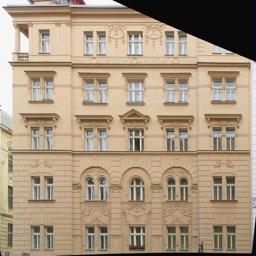building: (10, 0, 250, 256)
